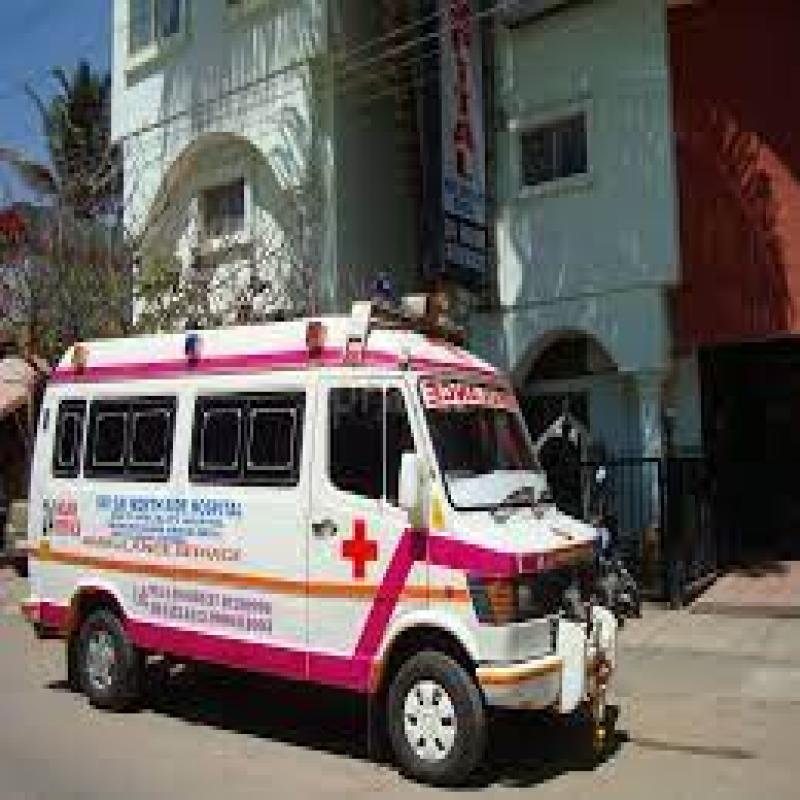ambulance: (26, 337, 607, 779)
